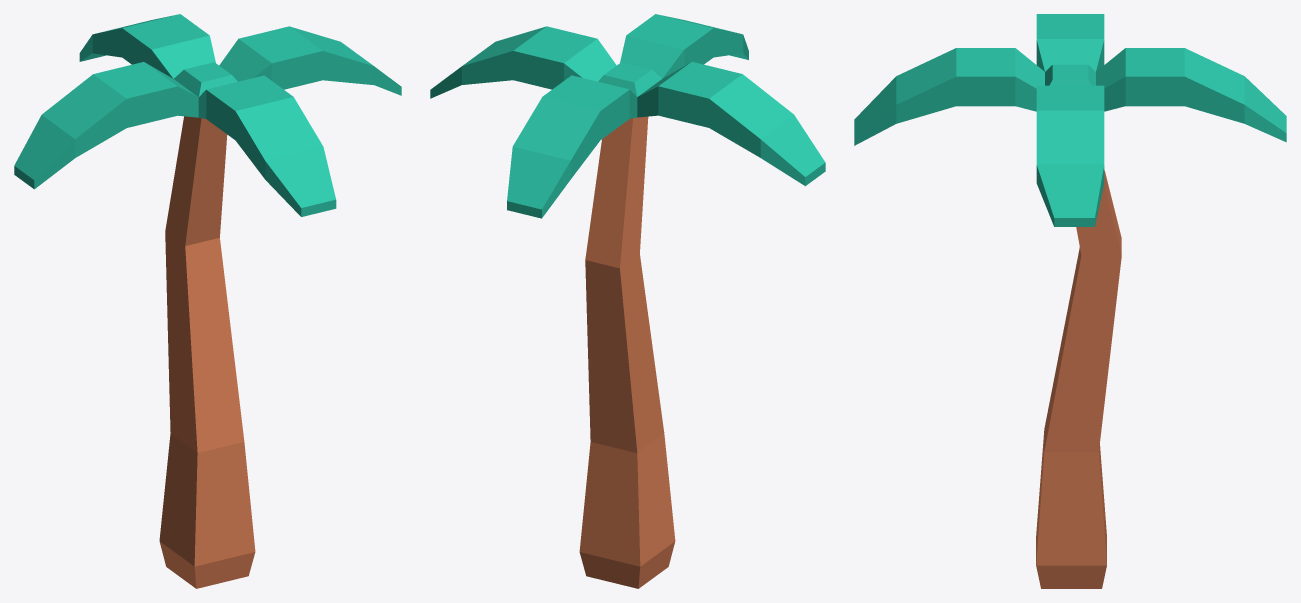
File: tree-palm-tall.glb
The picture shows the model from 3 angles, left to right: view 1: azimuth 30°, elevation 25°; view 2: azimuth 150°, elevation 25°; view 3: azimuth 270°, elevation 25°; orthographic projection.
Visible parts, largest first — view 1: tree_palmTall; view 2: tree_palmTall; view 3: tree_palmTall.
Part boxes in pixels (x1,y1,x2,y2): tree_palmTall: (14, 14, 401, 588); tree_palmTall: (430, 14, 825, 588); tree_palmTall: (854, 14, 1286, 588).
Size of the model in its own units: 1.03 by 1.36 by 1.03.
